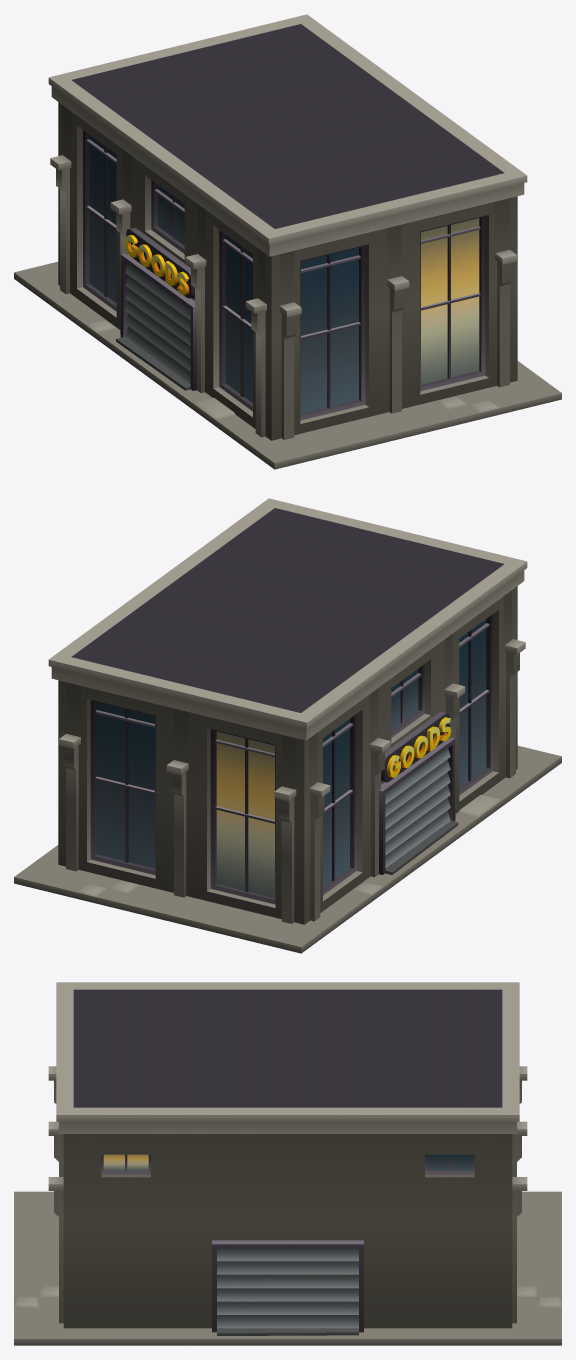
File: Warehouse_5A.fbx
The picture shows the model from 3 angles, top to bottom: view 1: azimuth 30°, elevation 25°; view 2: azimuth 150°, elevation 25°; view 3: azimuth 270°, elevation 25°; orthographic projection. The views are drawn at different scales.
Visible parts, largest first — view 1: Warehouse_5A, Warehouse_5A_Window_Lights, Warehouse_5A_Logo; view 2: Warehouse_5A, Warehouse_5A_Window_Lights, Warehouse_5A_Logo; view 3: Warehouse_5A, Warehouse_5A_Window_Lights.
Part boxes in pixels (x1,y1,x2,y2): Warehouse_5A: [14, 14, 561, 469]; Warehouse_5A_Window_Lights: [421, 218, 479, 384]; Warehouse_5A_Logo: [125, 228, 194, 298]; Warehouse_5A: [14, 498, 561, 953]; Warehouse_5A_Window_Lights: [216, 731, 274, 897]; Warehouse_5A_Logo: [381, 711, 451, 782]; Warehouse_5A: [14, 982, 561, 1345]; Warehouse_5A_Window_Lights: [103, 1154, 148, 1171].
Bounding box in the file's own units: 14 × 9.9 × 22.
